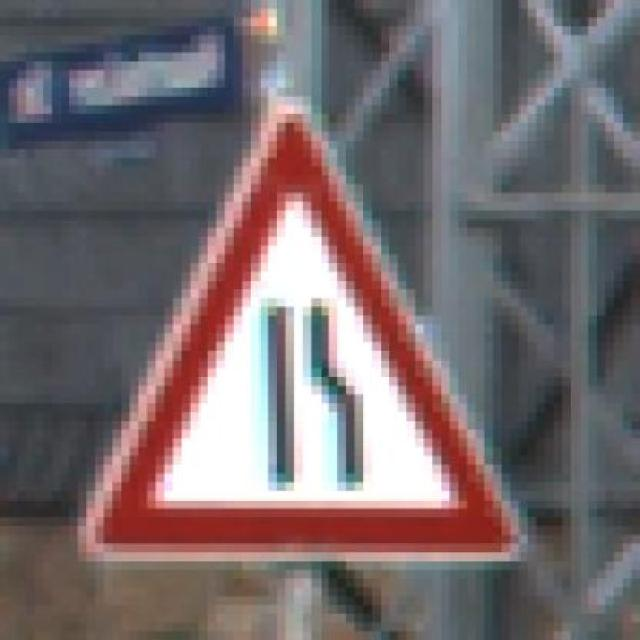-Road narrows on right: (60, 96, 554, 570)
